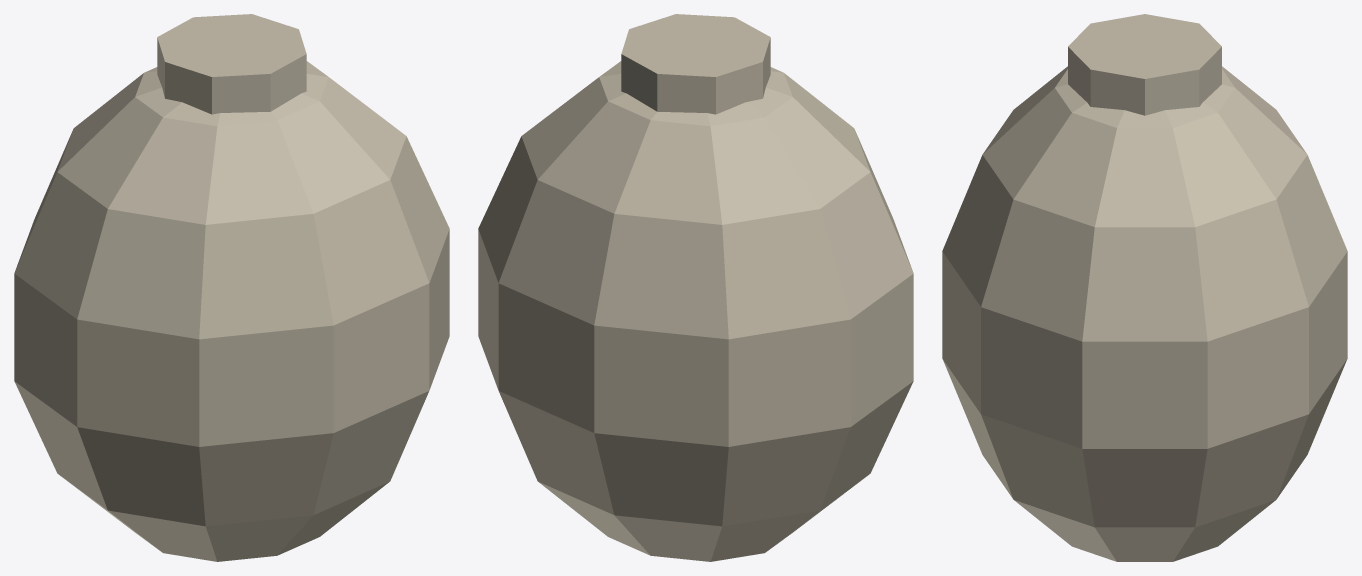
The model's file is sack.glb.
3 views of the same model, side by side, from view 1: azimuth 30°, elevation 25°; view 2: azimuth 150°, elevation 25°; view 3: azimuth 270°, elevation 25° (orthographic).
Parts seen in each view (by area): view 1: sack; view 2: sack; view 3: sack.
Part boxes in pixels (<box>): sack: <box>14,14,449,561</box>; sack: <box>478,14,913,561</box>; sack: <box>942,14,1347,561</box>.
Size of the model in its own units: 0.5563 by 0.715 by 0.5265.
